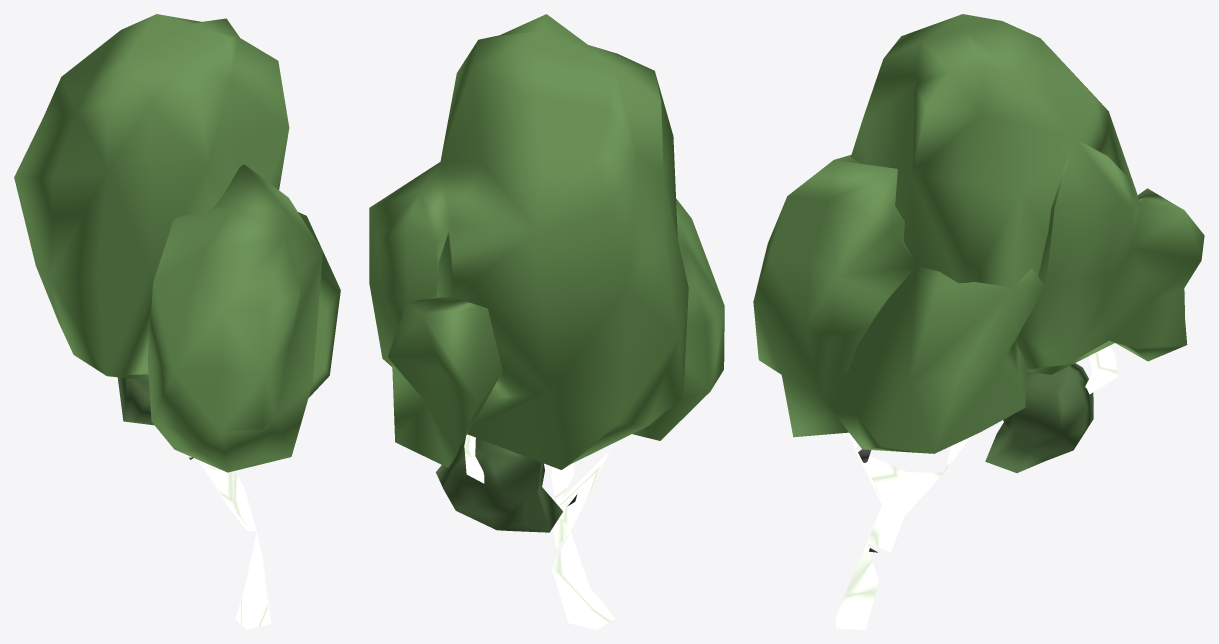
Rendered from BirchTree_1_lod.glb.
3 views of the same model, side by side, from view 1: azimuth 30°, elevation 25°; view 2: azimuth 150°, elevation 25°; view 3: azimuth 270°, elevation 25° (orthographic). The views are drawn at different scales.
Parts seen in each view (by area): view 1: BirchTree_1; view 2: BirchTree_1; view 3: BirchTree_1.
Boxes of the visible parts, <box> form: BirchTree_1: <box>14,14,340,629</box>; BirchTree_1: <box>369,14,724,629</box>; BirchTree_1: <box>753,14,1204,629</box>.
Bounding box in the file's own units: 170 × 357 × 248.
